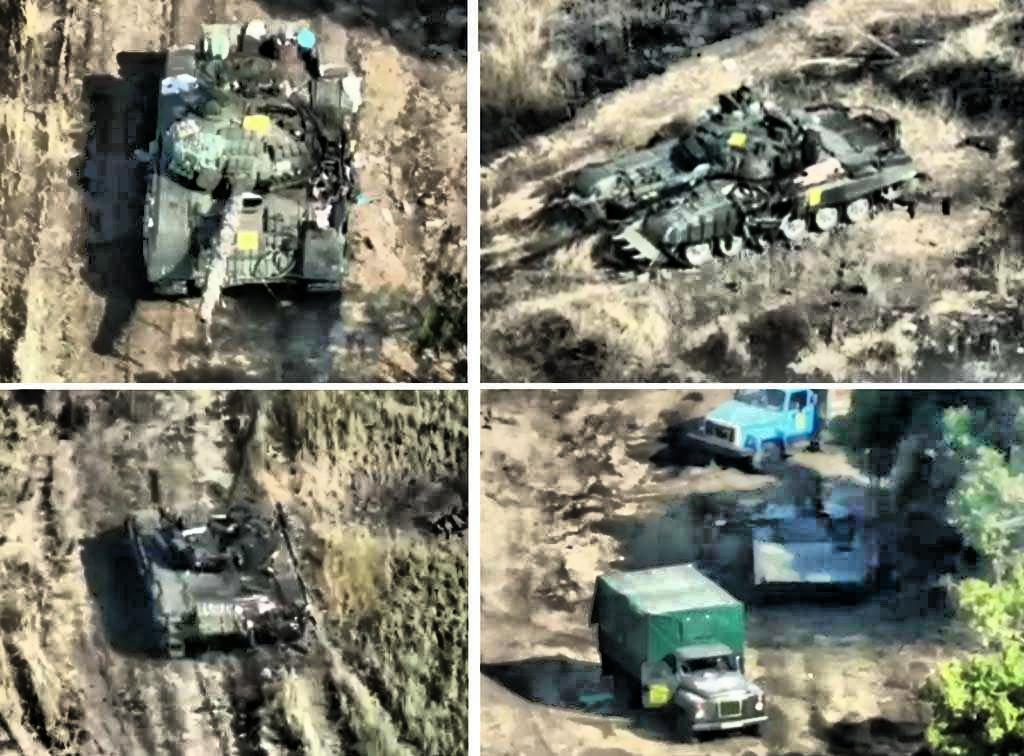military-vehicle: (558, 88, 934, 274), (145, 20, 360, 336), (122, 499, 308, 659)
